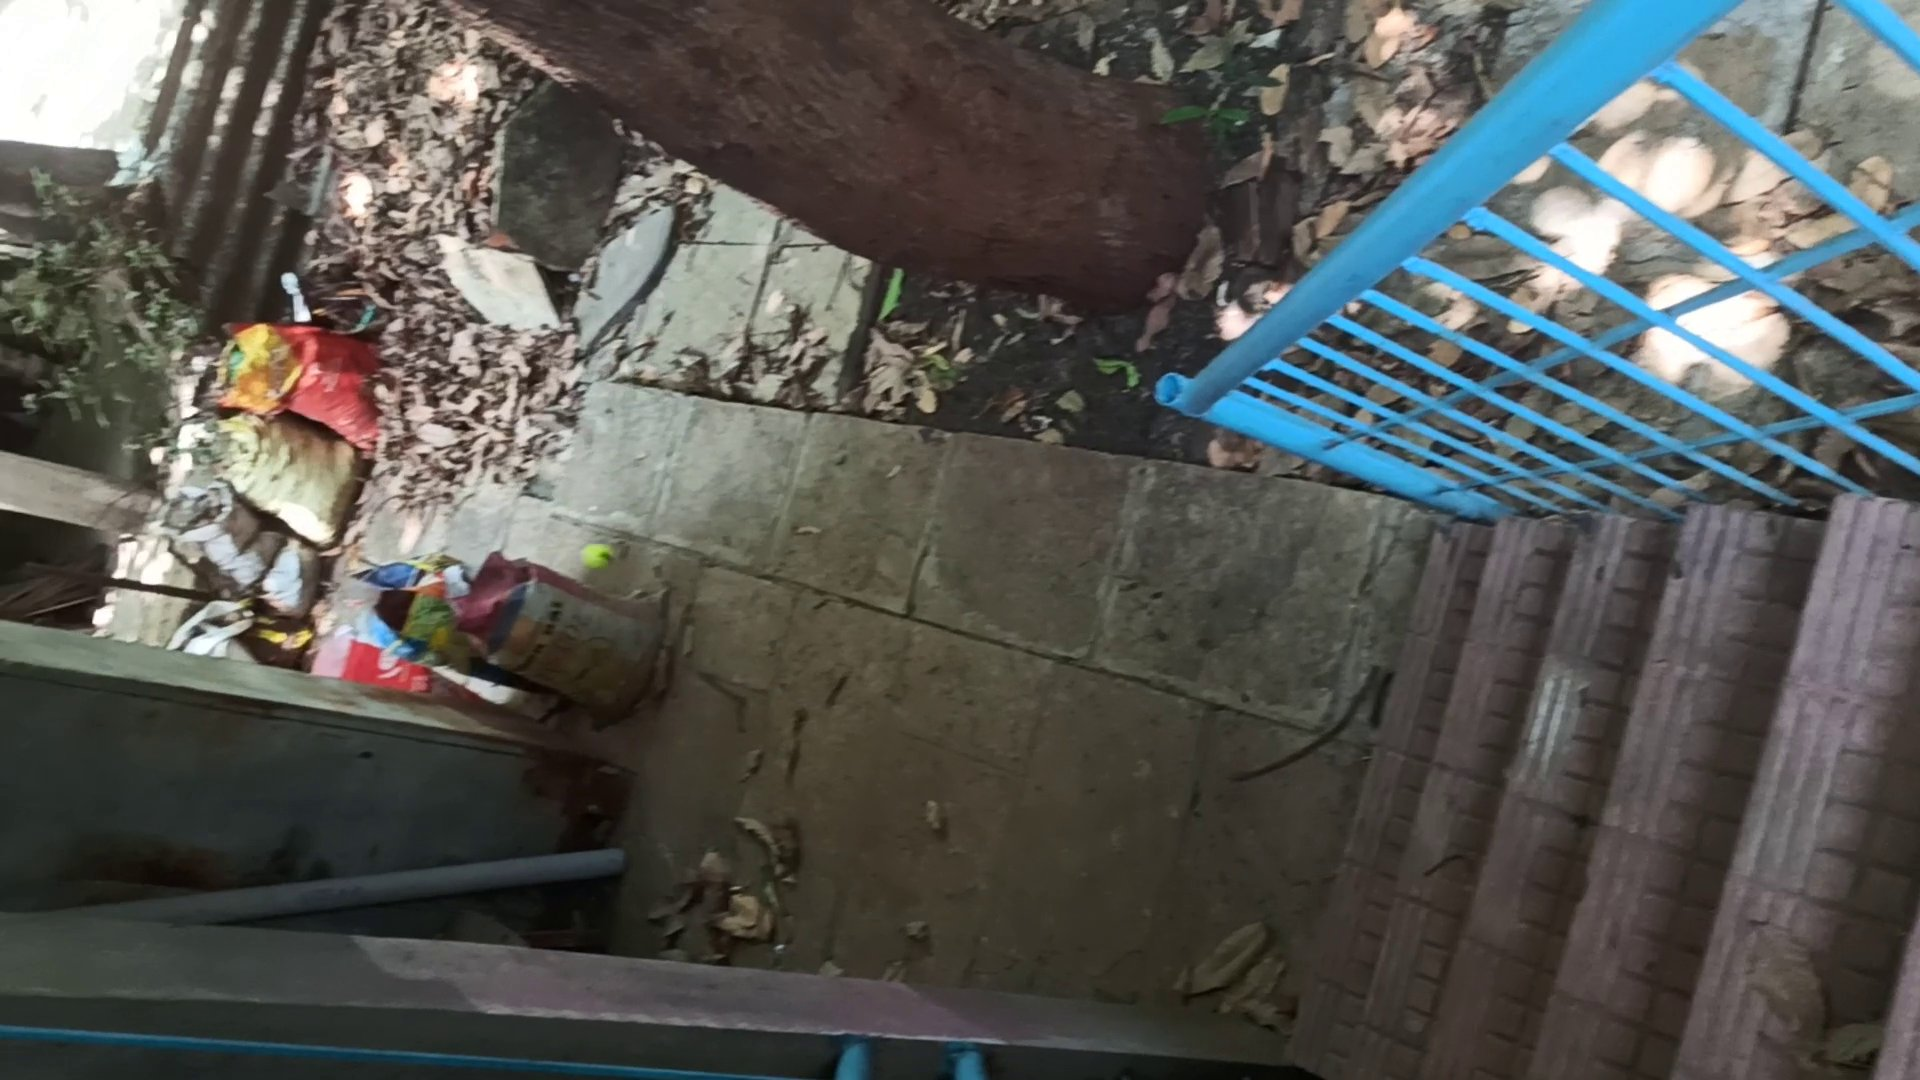Tennis-Ball: (580, 545, 612, 568)
